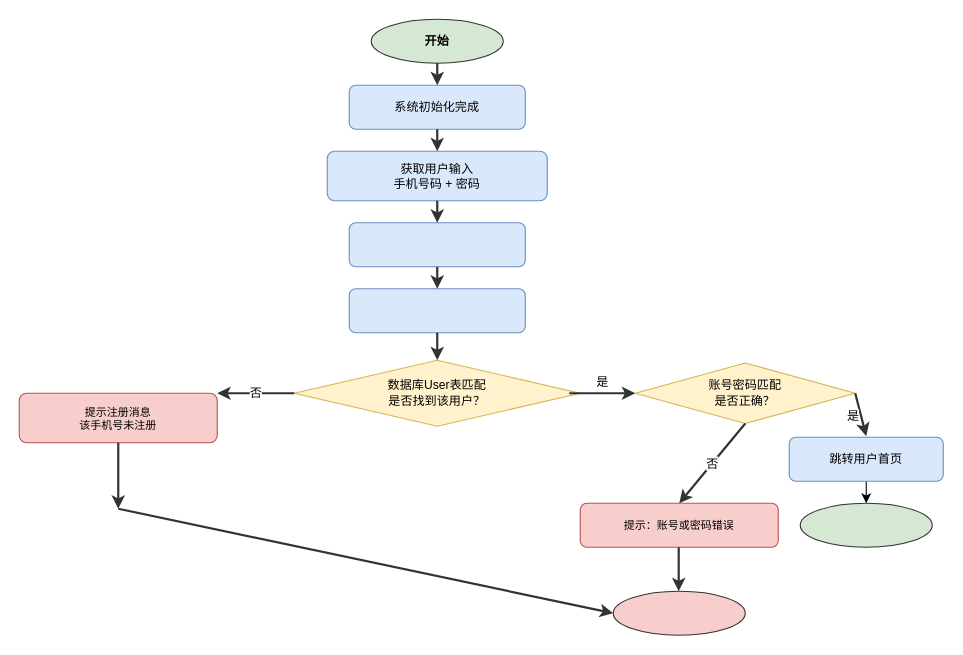
Image size: 963x655. Some labels were removed from this diagram. Here are the shapes that lost their labels. From the top down, the box of each, then its label:
(348, 222, 525, 267): 保存到用户参数设置
(348, 288, 525, 333): 发送登录信息到后台
(799, 502, 932, 547): 结束(成功)
(612, 590, 745, 635): 结束
